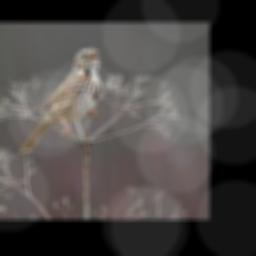Sparrow: (19, 48, 103, 154)
